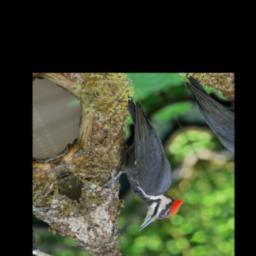Woodpecker: (65, 90, 206, 236)
